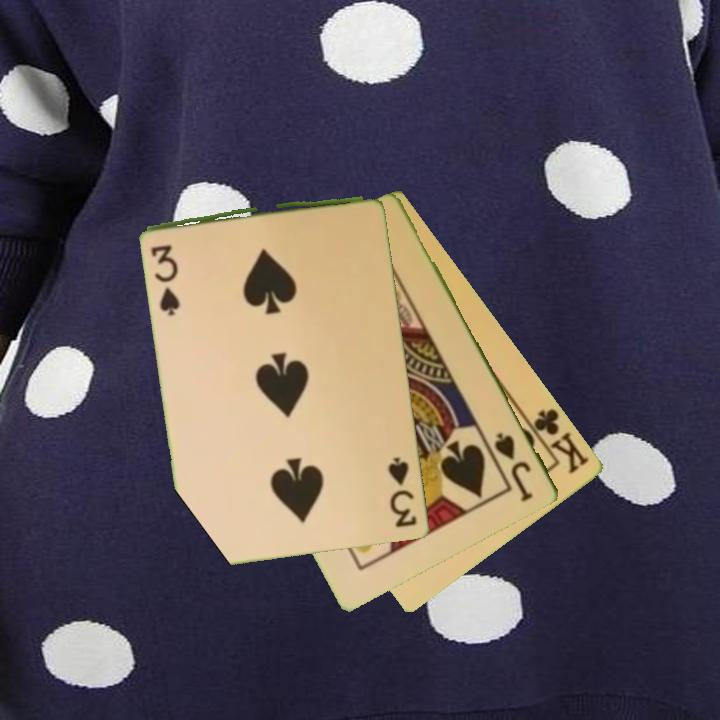3s: (385, 454, 420, 531), (148, 241, 183, 315)
Js: (491, 429, 537, 504)
Kc: (522, 404, 593, 477)
